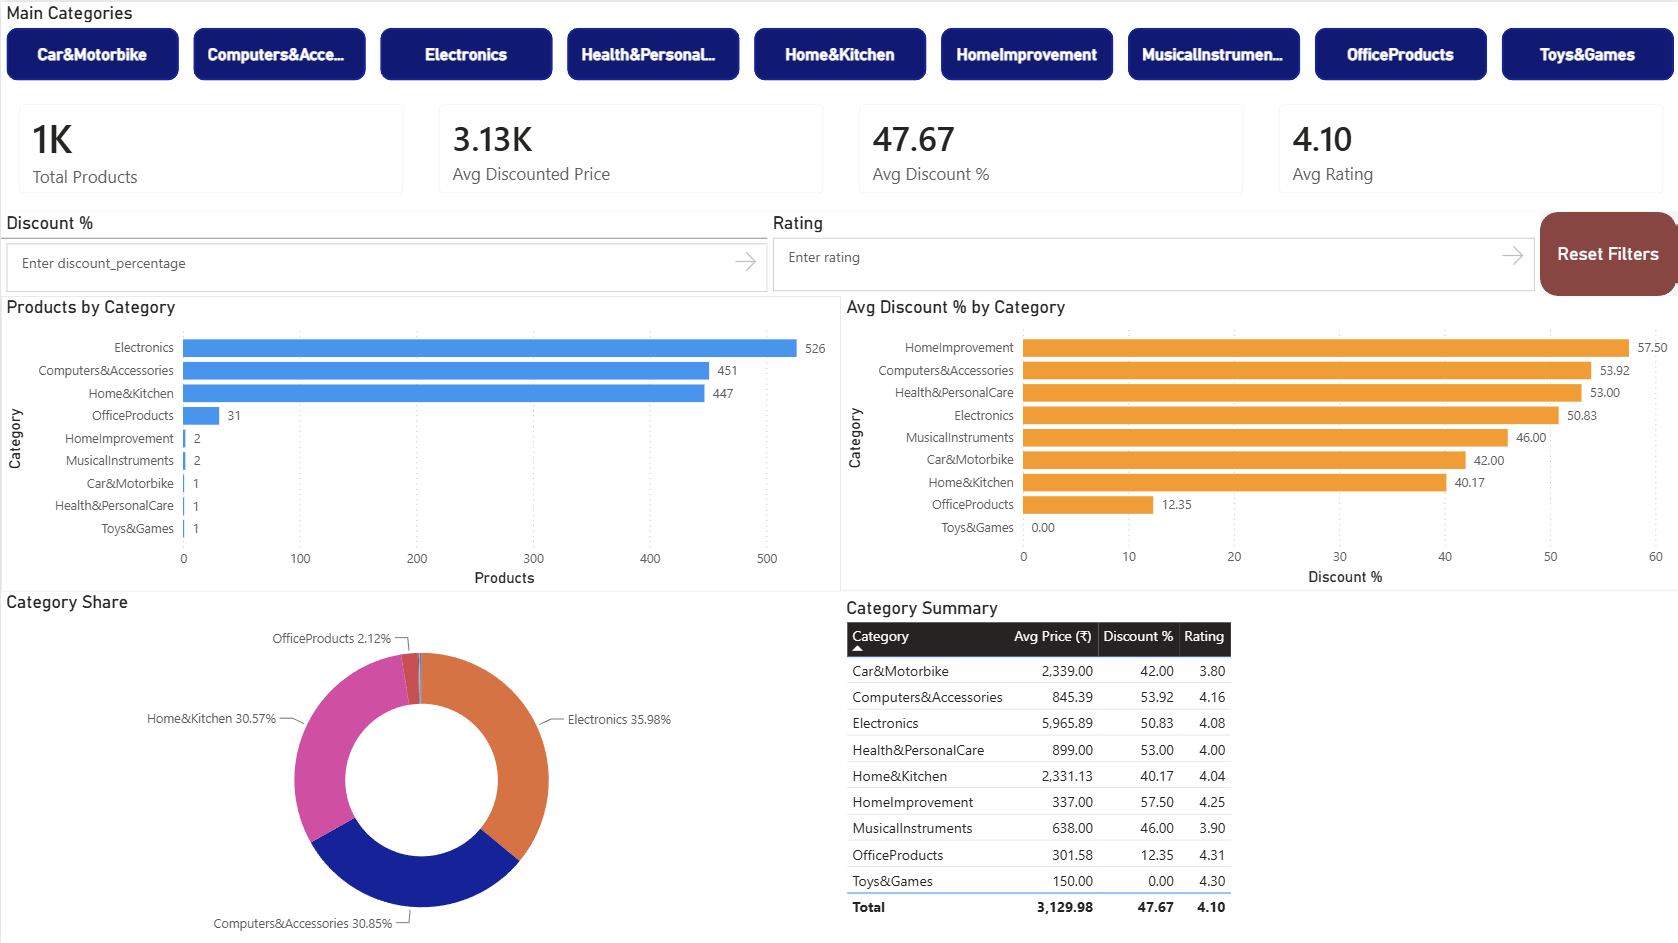

The dashboard page shown, as its layout file describes it:
{"tool":"powerbi","page":{"name":"Overview","canvas":[1600,900],"ordinal":0},"visuals":[{"type":"cardVisual","fields":{"Data":["amazon_cleaned.Total Products"]},"box":[0,80.6,400.2,119.5],"z":0},{"type":"cardVisual","fields":{"Data":["amazon_cleaned.Avg Discounted Price"]},"box":[400.2,80.6,400.2,119.5],"z":1000},{"type":"cardVisual","fields":{"Data":["amazon_cleaned.Avg Discount %"]},"box":[800.4,80.6,400.2,119.5],"z":2000},{"type":"cardVisual","fields":{"Data":["amazon_cleaned.Avg Rating"]},"box":[1199.3,80.6,400.2,119.5],"z":3000},{"type":"clusteredBarChart","title":"Products by Category","fields":{"Category":["amazon_cleaned.Main_Category"],"Y":["amazon_cleaned.Total Products"]},"box":[0,280.7,800.4,280.7],"z":4000},{"type":"clusteredBarChart","title":"Avg Discount % by Category","fields":{"Category":["amazon_cleaned.Main_Category"],"Y":["amazon_cleaned.Avg Discount %"]},"box":[800.4,280.7,799.1,279.4],"z":5000},{"type":"donutChart","title":"Category Share","fields":{"Category":["amazon_cleaned.Main_Category"],"Y":["amazon_cleaned.Total Products"]},"box":[0,561.3,800.4,339.1],"z":6000},{"type":"tableEx","title":"Category Summary","fields":{"Values":["amazon_cleaned.Main_Category","amazon_cleaned.Avg Discounted Price","amazon_cleaned.Avg Discount %","amazon_cleaned.Avg Rating"]},"box":[800.4,561.3,799.1,339.1],"z":7000},{"type":"advancedSlicerVisual","title":"Main Categories","fields":{"Values":["amazon_cleaned.Main_Category"]},"box":[0,0,1599.5,80],"z":8000},{"type":"textSlicer","title":"Discount %","fields":{"Values":["amazon_cleaned.discount_percentage"]},"box":[0,200,735.7,80],"z":9000},{"type":"textSlicer","title":"Rating","fields":{"Values":["amazon_cleaned.rating"]},"box":[730,200,735.7,80],"z":10000},{"type":"actionButton","box":[1465.7,200,130,80],"z":11000}]}

Visuals, with their boxes in screenshot pixels (x1, y1, x2, y2), scaled from the page's 1600x900 canvas onto the 1678x943 screenshot:
cardVisual - amazon_cleaned.Total Products: left=0, top=84, right=420, bottom=210
cardVisual - amazon_cleaned.Avg Discounted Price: left=420, top=84, right=839, bottom=210
cardVisual - amazon_cleaned.Avg Discount %: left=839, top=84, right=1259, bottom=210
cardVisual - amazon_cleaned.Avg Rating: left=1258, top=84, right=1677, bottom=210
"Products by Category" clusteredBarChart: left=0, top=294, right=839, bottom=588
"Avg Discount % by Category" clusteredBarChart: left=839, top=294, right=1677, bottom=587
"Category Share" donutChart: left=0, top=588, right=839, bottom=942
"Category Summary" tableEx: left=839, top=588, right=1677, bottom=942
"Main Categories" advancedSlicerVisual: left=0, top=0, right=1677, bottom=84
"Discount %" textSlicer: left=0, top=210, right=772, bottom=293
"Rating" textSlicer: left=766, top=210, right=1537, bottom=293
actionButton: left=1537, top=210, right=1673, bottom=293
